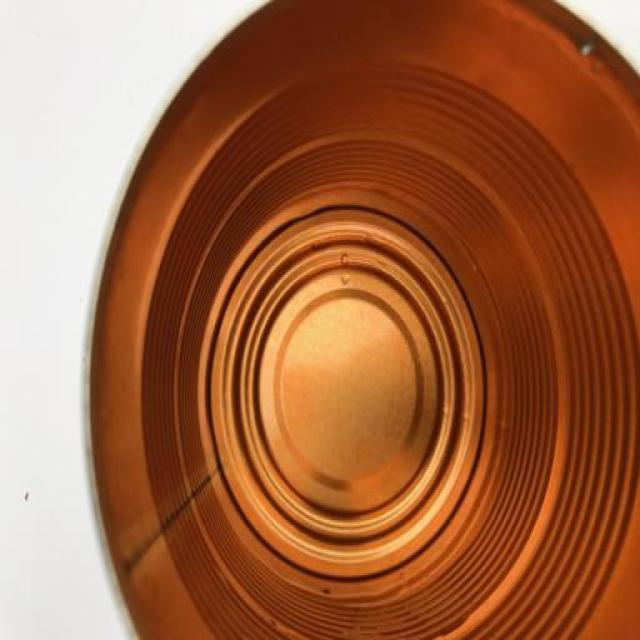metel: (118, 62, 628, 640)
